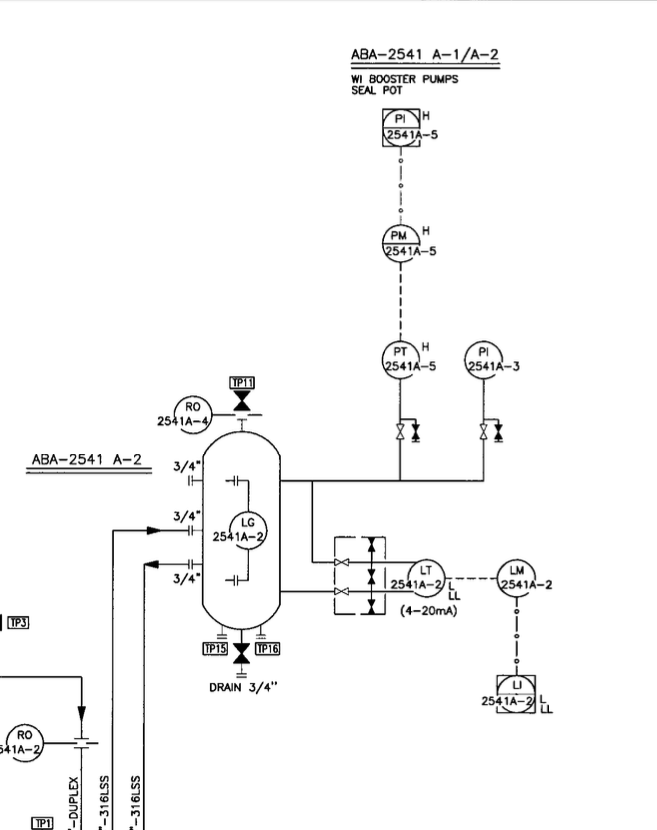Instrument-offset: (494, 551, 557, 603), (150, 392, 217, 437), (379, 334, 438, 382), (380, 220, 440, 266), (463, 339, 526, 382), (390, 557, 448, 598), (1, 723, 51, 762)
Instrument-square-offset: (376, 104, 443, 151), (478, 669, 540, 715)
